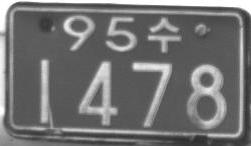1: (27, 58, 66, 123)
4: (77, 61, 117, 125)
5: (105, 15, 138, 52)
7: (131, 60, 172, 128)
8: (185, 63, 228, 130)
9: (62, 14, 95, 52)
수: (147, 16, 180, 52)
